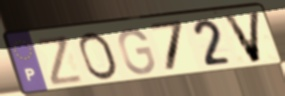2: (194, 17, 238, 70)
7: (148, 19, 187, 75)
G: (116, 27, 158, 77)
O: (77, 30, 121, 82)
V: (220, 9, 263, 65)
Z: (34, 33, 86, 88)
